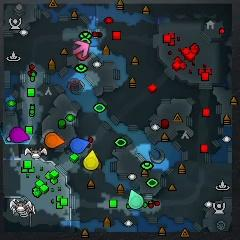p1: (71, 138, 90, 154)
p2: (129, 189, 143, 209)
p3: (9, 127, 30, 143)
p4: (84, 149, 98, 170)
p5: (45, 132, 65, 149)
x1: (73, 40, 90, 57)
